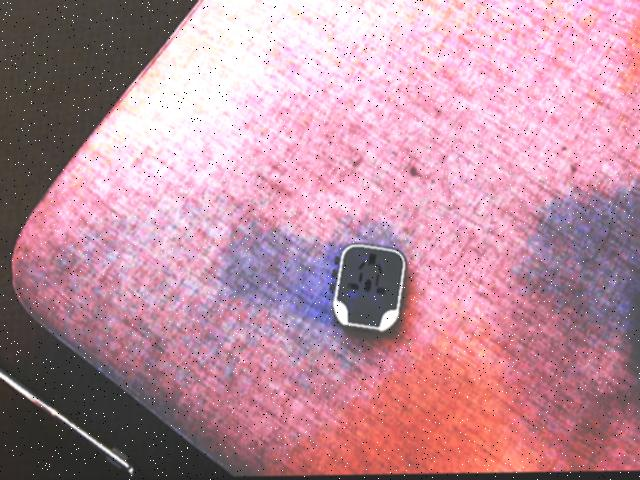adapter: (330, 243, 406, 334)
